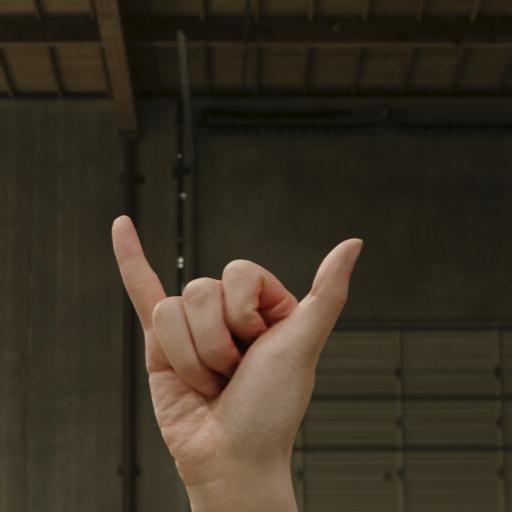Y: (106, 210, 370, 461)
